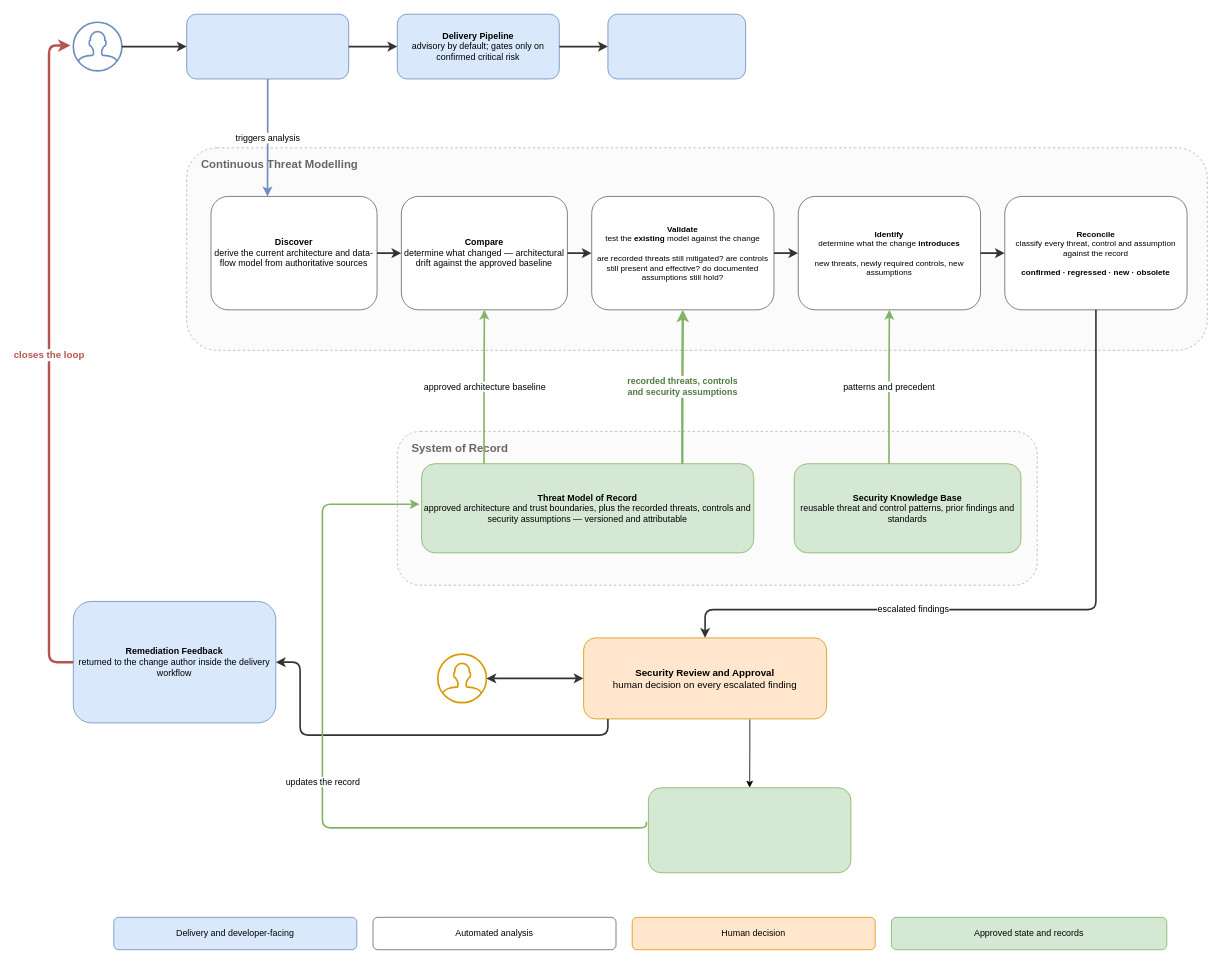
Some shapes in this 1221 by 964 pixel diagram are drawn without their labels. Here are the shapes that lost their labels. From the top down, the centre of each, then its label:
At pixel 97 46: "Development Team".
At pixel 267 46: "Change Event design, code or infrastructure change".
At pixel 676 46: "Release".
At pixel 462 678: "Security Team".
At pixel 749 830: "Baseline Update approved change to the threat model of record".
